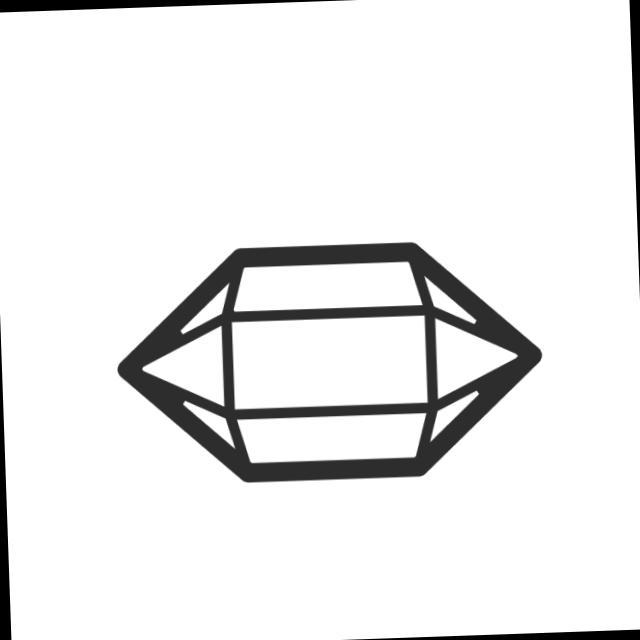crystal: (106, 229, 553, 496)
